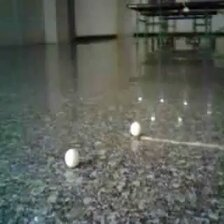w: (64, 148, 80, 167), (129, 121, 141, 137)
